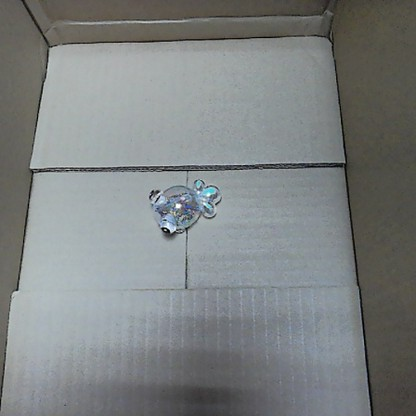whitefish: (148, 174, 223, 238)
